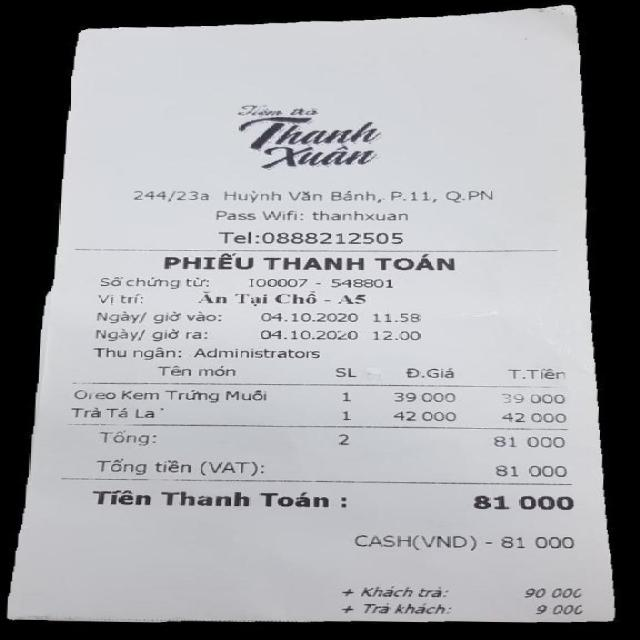Date: (256, 323, 365, 345)
Store_Name: (219, 98, 395, 174)
amount_number: (466, 490, 577, 514)
label_total: (86, 484, 336, 514)
